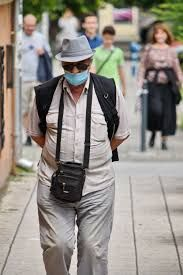no-mask: (151, 27, 172, 47), (80, 15, 102, 34), (102, 32, 122, 49), (23, 15, 38, 37)
with-mask: (57, 49, 96, 88)
